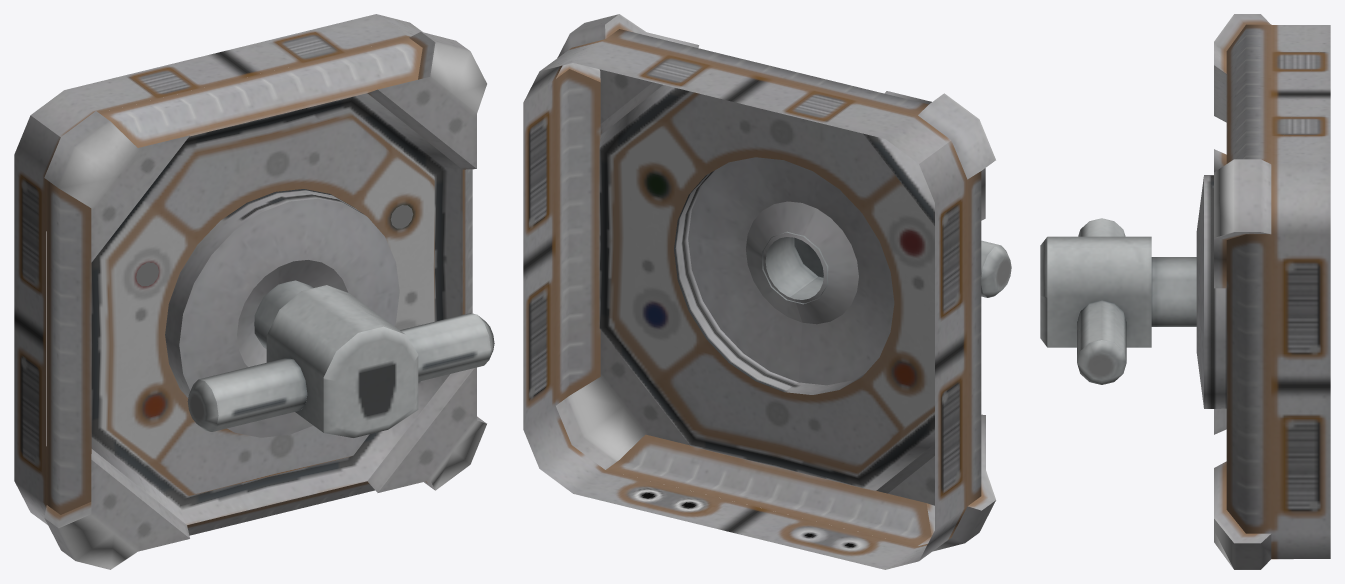
The model's file is Rotary A1A.fbx.
3 renders of one model, left to right at view 1: azimuth 30°, elevation 25°; view 2: azimuth 150°, elevation 25°; view 3: azimuth 270°, elevation 25°, orthographic. The views are drawn at different scales.
Parts seen in each view (by area): view 1: Rotary A1A, RotaryHandle A1A; view 2: Rotary A1A, RotaryHandle A1A; view 3: Rotary A1A, RotaryHandle A1A.
Part boxes in pixels (x1=…): Rotary A1A: x1=14, y1=14, x2=486, y2=569; RotaryHandle A1A: x1=187, y1=280, x2=494, y2=437; Rotary A1A: x1=523, y1=14, x2=995, y2=569; RotaryHandle A1A: x1=762, y1=231, x2=1011, y2=304; Rotary A1A: x1=1196, y1=14, x2=1330, y2=569; RotaryHandle A1A: x1=1040, y1=218, x2=1196, y2=384.
Bounding box in the file's own units: 16.58 × 16.58 × 10.63.
3 materials, 1 textured.
